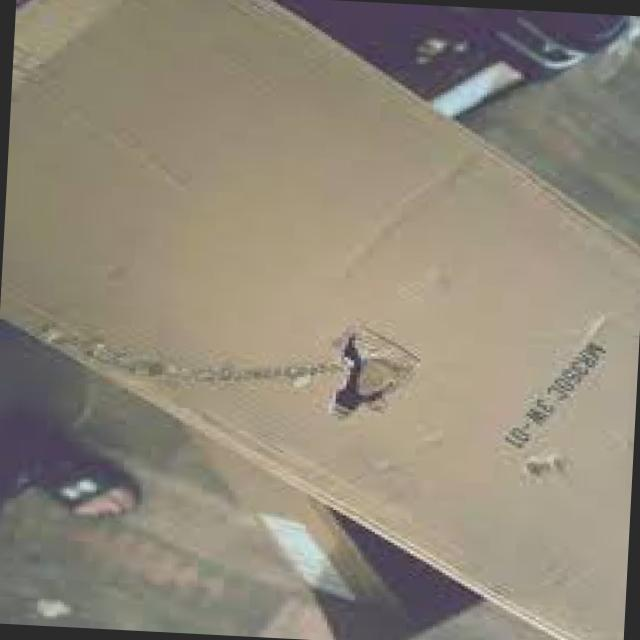package_damage: (26, 308, 499, 438)
